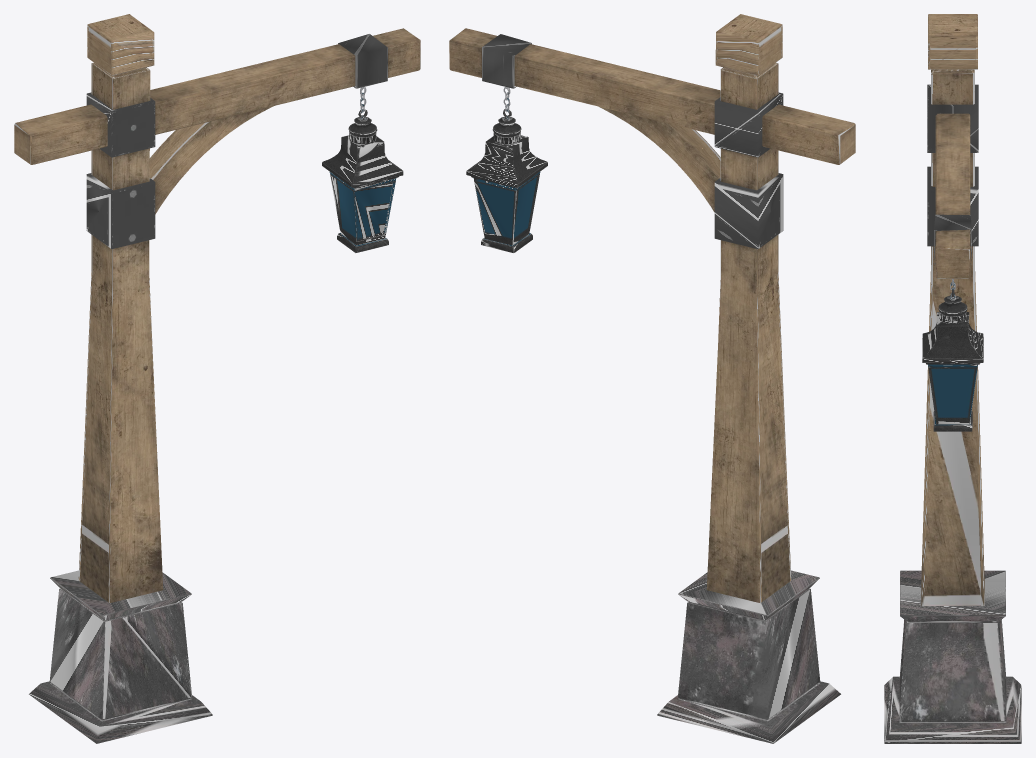
The model's file is Lantern.glb.
The picture shows the model from 3 angles, left to right: view 1: azimuth 30°, elevation 25°; view 2: azimuth 150°, elevation 25°; view 3: azimuth 270°, elevation 25°; orthographic projection.
Parts seen in each view (by area): view 1: LanternPole_Body; view 2: LanternPole_Body; view 3: LanternPole_Body.
Boxes of the visible parts, box(x1,y1,x2,y2) form: LanternPole_Body: box(14, 14, 420, 743); LanternPole_Body: box(449, 14, 855, 743); LanternPole_Body: box(884, 14, 1021, 743).
Bounding box in the file's own units: 15.49 × 25.66 × 4.63.
1 material, 1 textured.
